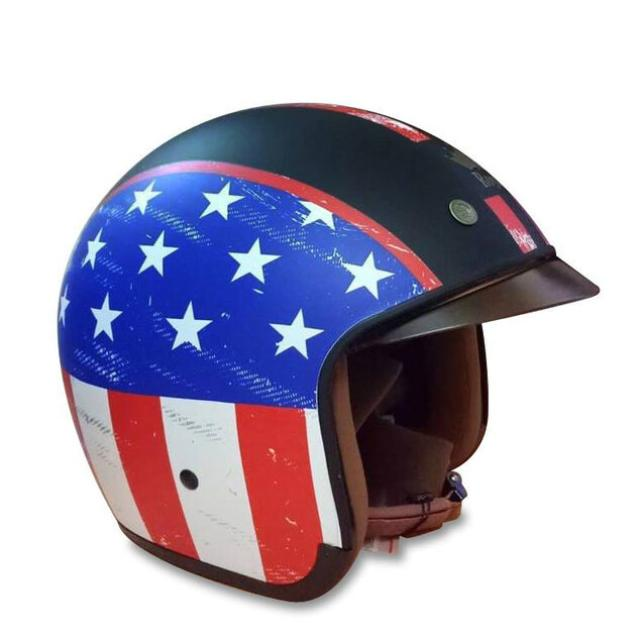Helmet: (52, 99, 600, 603)
